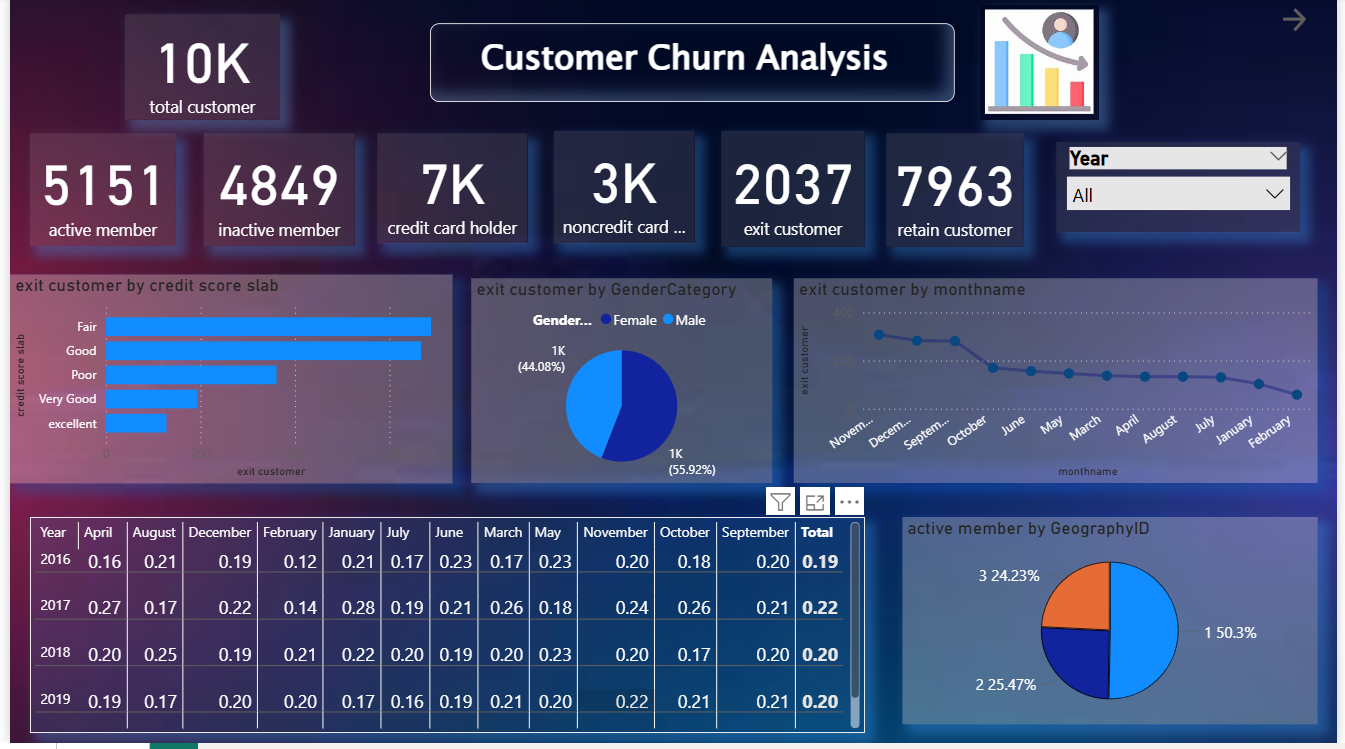

What the dashboard file says about the page in this screenshot:
{"tool":"powerbi","page":{"name":"Page 1","canvas":[1280,720],"ordinal":0},"visuals":[{"type":"textbox","box":[405.4,25.3,506.7,76],"z":0},{"type":"card","fields":{"Values":["active member.active member"]},"box":[19.3,131.5,141.2,108.6],"z":1000},{"type":"card","fields":{"Values":["active member.inactive member"]},"box":[187,131.5,146,108.6],"z":2000},{"type":"card","fields":{"Values":["active member.noncredit card holder"]},"box":[524.8,129.1,136.3,108.6],"z":3000},{"type":"card","fields":{"Values":["active member.credit card holder"]},"box":[354.7,131.5,144.8,106.2],"z":4000},{"type":"card","fields":{"Values":["active member.retain category"]},"box":[845.7,131.5,132.7,109.8],"z":5000},{"type":"card","fields":{"Values":["active member.exit category"]},"box":[686.5,129.1,138.7,112.2],"z":6000},{"type":"card","fields":{"Values":["active member.total customer"]},"box":[111,16.9,149.6,101.3],"z":7000},{"type":"lineChart","fields":{"Category":["Bank_Churn.monthname"],"Y":["active member.exit category"]},"box":[756.4,271.4,505.5,197.9],"z":8000},{"type":"barChart","fields":{"Y":["active member.exit customer"],"Category":["Bank_Churn.credit score slab"]},"box":[0,267.8,427.1,201.5],"z":9000},{"type":"pieChart","fields":{"Y":["active member.exit customer"],"Category":["gender.GenderCategory"]},"box":[445.2,271.4,290.8,197.9],"z":10000},{"type":"actionButton","box":[1208.9,0,71.2,50.7],"z":11000},{"type":"pivotTable","fields":{"Columns":["Bank_Churn.monthname"],"Rows":["Bank_Churn.Bank DOJ.Variation.Date Hierarchy.Year"],"Values":["active member.bank churn %"]},"box":[19.3,501.9,805.9,208.7],"z":12000},{"type":"slicer","fields":{"Values":["Bank_Churn.Bank DOJ.Variation.Date Hierarchy.Year"]},"box":[1009.8,139.9,235.3,86.9],"z":13000},{"type":"pieChart","fields":{"Y":["active member.active member"],"Category":["Bank_Churn.GeographyID"]},"box":[861.4,501.9,400.5,200.3],"z":14000},{"type":"image","box":[936.2,7.2,114.6,111],"z":15000}]}

Visuals, with their boxes in screenshot pixels (x1, y1, x2, y2), scaled from the page's 1280x720 canvas onto the 1345x749 screenshot:
textbox: (x1=426, y1=26, x2=958, y2=105)
card - active member.active member: (x1=20, y1=137, x2=169, y2=250)
card - active member.inactive member: (x1=196, y1=137, x2=350, y2=250)
card - active member.noncredit card holder: (x1=551, y1=134, x2=695, y2=247)
card - active member.credit card holder: (x1=373, y1=137, x2=525, y2=247)
card - active member.retain category: (x1=889, y1=137, x2=1028, y2=251)
card - active member.exit category: (x1=721, y1=134, x2=867, y2=251)
card - active member.total customer: (x1=117, y1=18, x2=274, y2=123)
lineChart - Bank_Churn.monthname x active member.exit category: (x1=795, y1=282, x2=1326, y2=488)
barChart - active member.exit customer x Bank_Churn.credit score slab: (x1=0, y1=279, x2=449, y2=488)
pieChart - active member.exit customer x gender.GenderCategory: (x1=468, y1=282, x2=773, y2=488)
actionButton: (x1=1270, y1=0, x2=1344, y2=53)
pivotTable - Bank_Churn.monthname x Bank_Churn.Bank DOJ.Variation.Date Hierarchy.Year: (x1=20, y1=522, x2=867, y2=739)
slicer - Bank_Churn.Bank DOJ.Variation.Date Hierarchy.Year: (x1=1061, y1=146, x2=1308, y2=236)
pieChart - active member.active member x Bank_Churn.GeographyID: (x1=905, y1=522, x2=1326, y2=730)
image: (x1=984, y1=7, x2=1104, y2=123)
